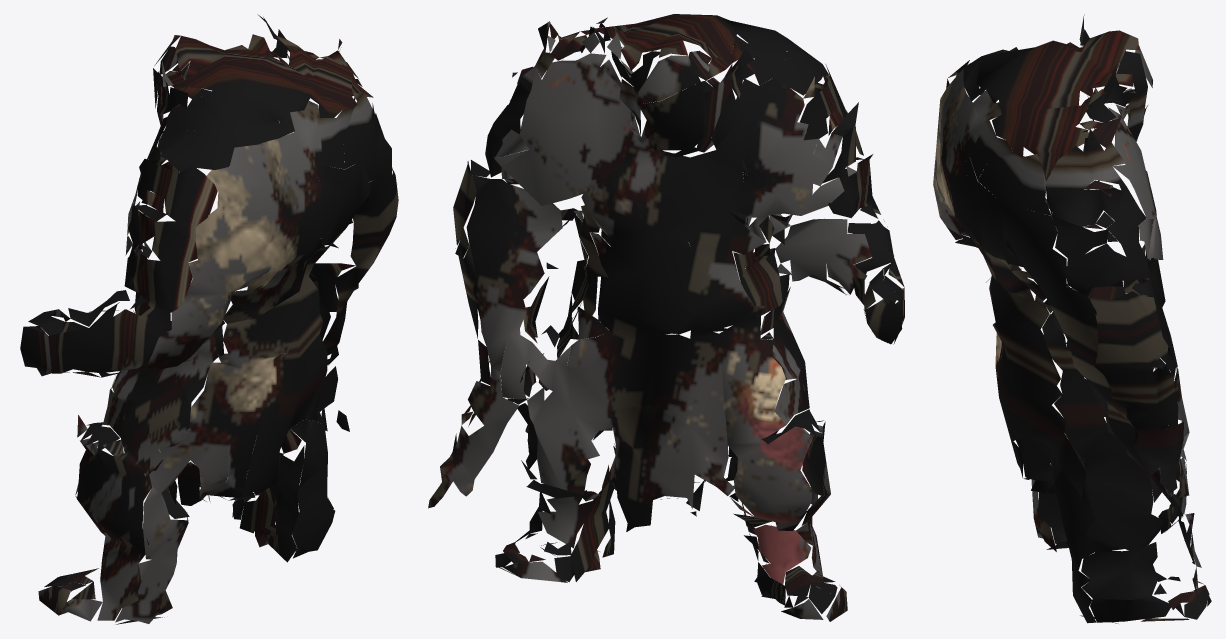
3 renders of one model, left to right at view 1: azimuth 30°, elevation 25°; view 2: azimuth 150°, elevation 25°; view 3: azimuth 270°, elevation 25°, orthographic. The views are drawn at different scales.
Visible parts, largest first — view 1: body.002; view 2: body.002; view 3: body.002.
Part boxes in pixels (<box>): body.002: <box>20,14,398,624</box>; body.002: <box>428,14,904,621</box>; body.002: <box>933,14,1211,623</box>.
Size of the model in its own units: 1.54 by 1.98 by 0.9123.
Materials: 1 (1 with a texture image).
